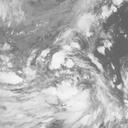cyclone: (24, 45, 91, 106)
